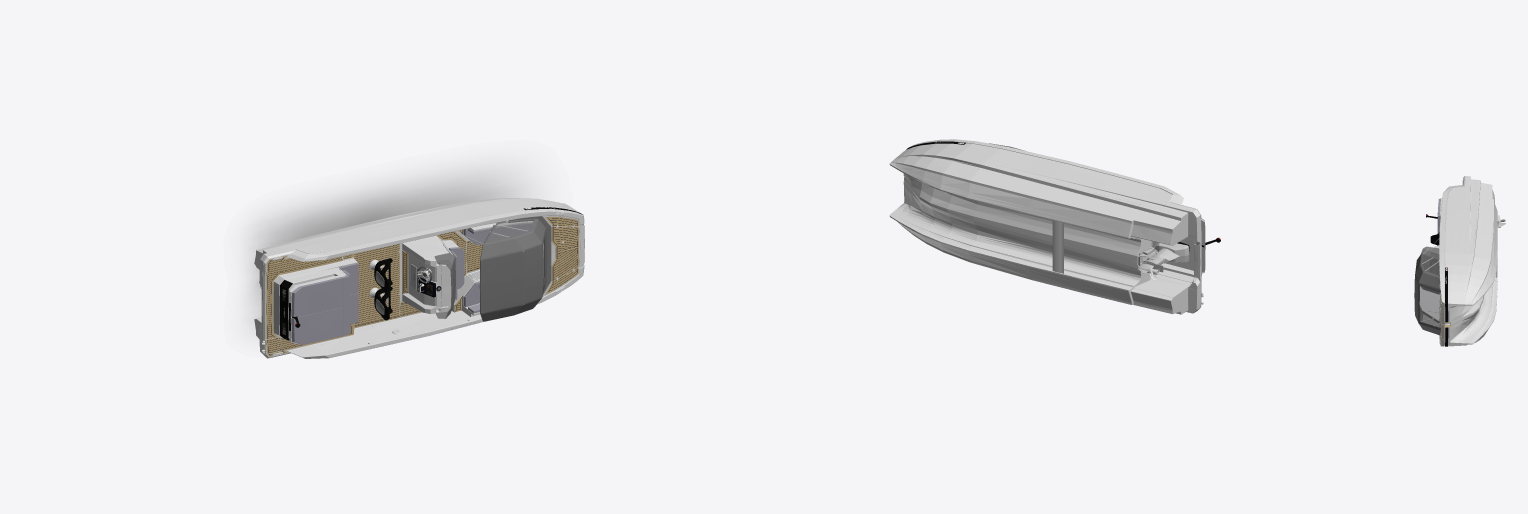
3 renders of one model, left to right at view 1: azimuth 30°, elevation 25°; view 2: azimuth 150°, elevation 25°; view 3: azimuth 270°, elevation 25°, orthographic. The views are drawn at different scales.
Visible parts, largest first — view 1: fibra, sombra, teca, tapiceria, E23 SHtela, sica, negro brillante, antifouling, E23 SHtelaTransparente; view 2: antifouling, fibra, motor gris, inox; view 3: fibra, antifouling, E23 SHtelaTransparente, E23 SHtela, transparentacrylic, negro brillante.
Boxes of the visible parts, bbox=[...] form: fibra: bbox=[259, 198, 584, 358]; sombra: bbox=[243, 161, 543, 338]; teca: bbox=[266, 217, 579, 356]; tapiceria: bbox=[291, 223, 532, 344]; E23 SHtela: bbox=[479, 218, 546, 321]; sica: bbox=[267, 218, 577, 355]; negro brillante: bbox=[279, 207, 582, 340]; antifouling: bbox=[254, 198, 519, 338]; E23 SHtelaTransparente: bbox=[488, 219, 547, 291]; antifouling: bbox=[896, 163, 1183, 314]; fibra: bbox=[889, 139, 1205, 313]; motor gris: bbox=[1137, 242, 1189, 273]; inox: bbox=[958, 142, 1203, 304]; fibra: bbox=[1433, 176, 1476, 346]; antifouling: bbox=[1477, 180, 1497, 341]; E23 SHtelaTransparente: bbox=[1419, 255, 1440, 327]; E23 SHtela: bbox=[1414, 253, 1440, 335]; transparentacrylic: bbox=[1420, 246, 1439, 294]; negro brillante: bbox=[1426, 214, 1448, 346].
Bounding box in the file's own units: 687 × 315 × 117.
25 materials, 6 textured.
